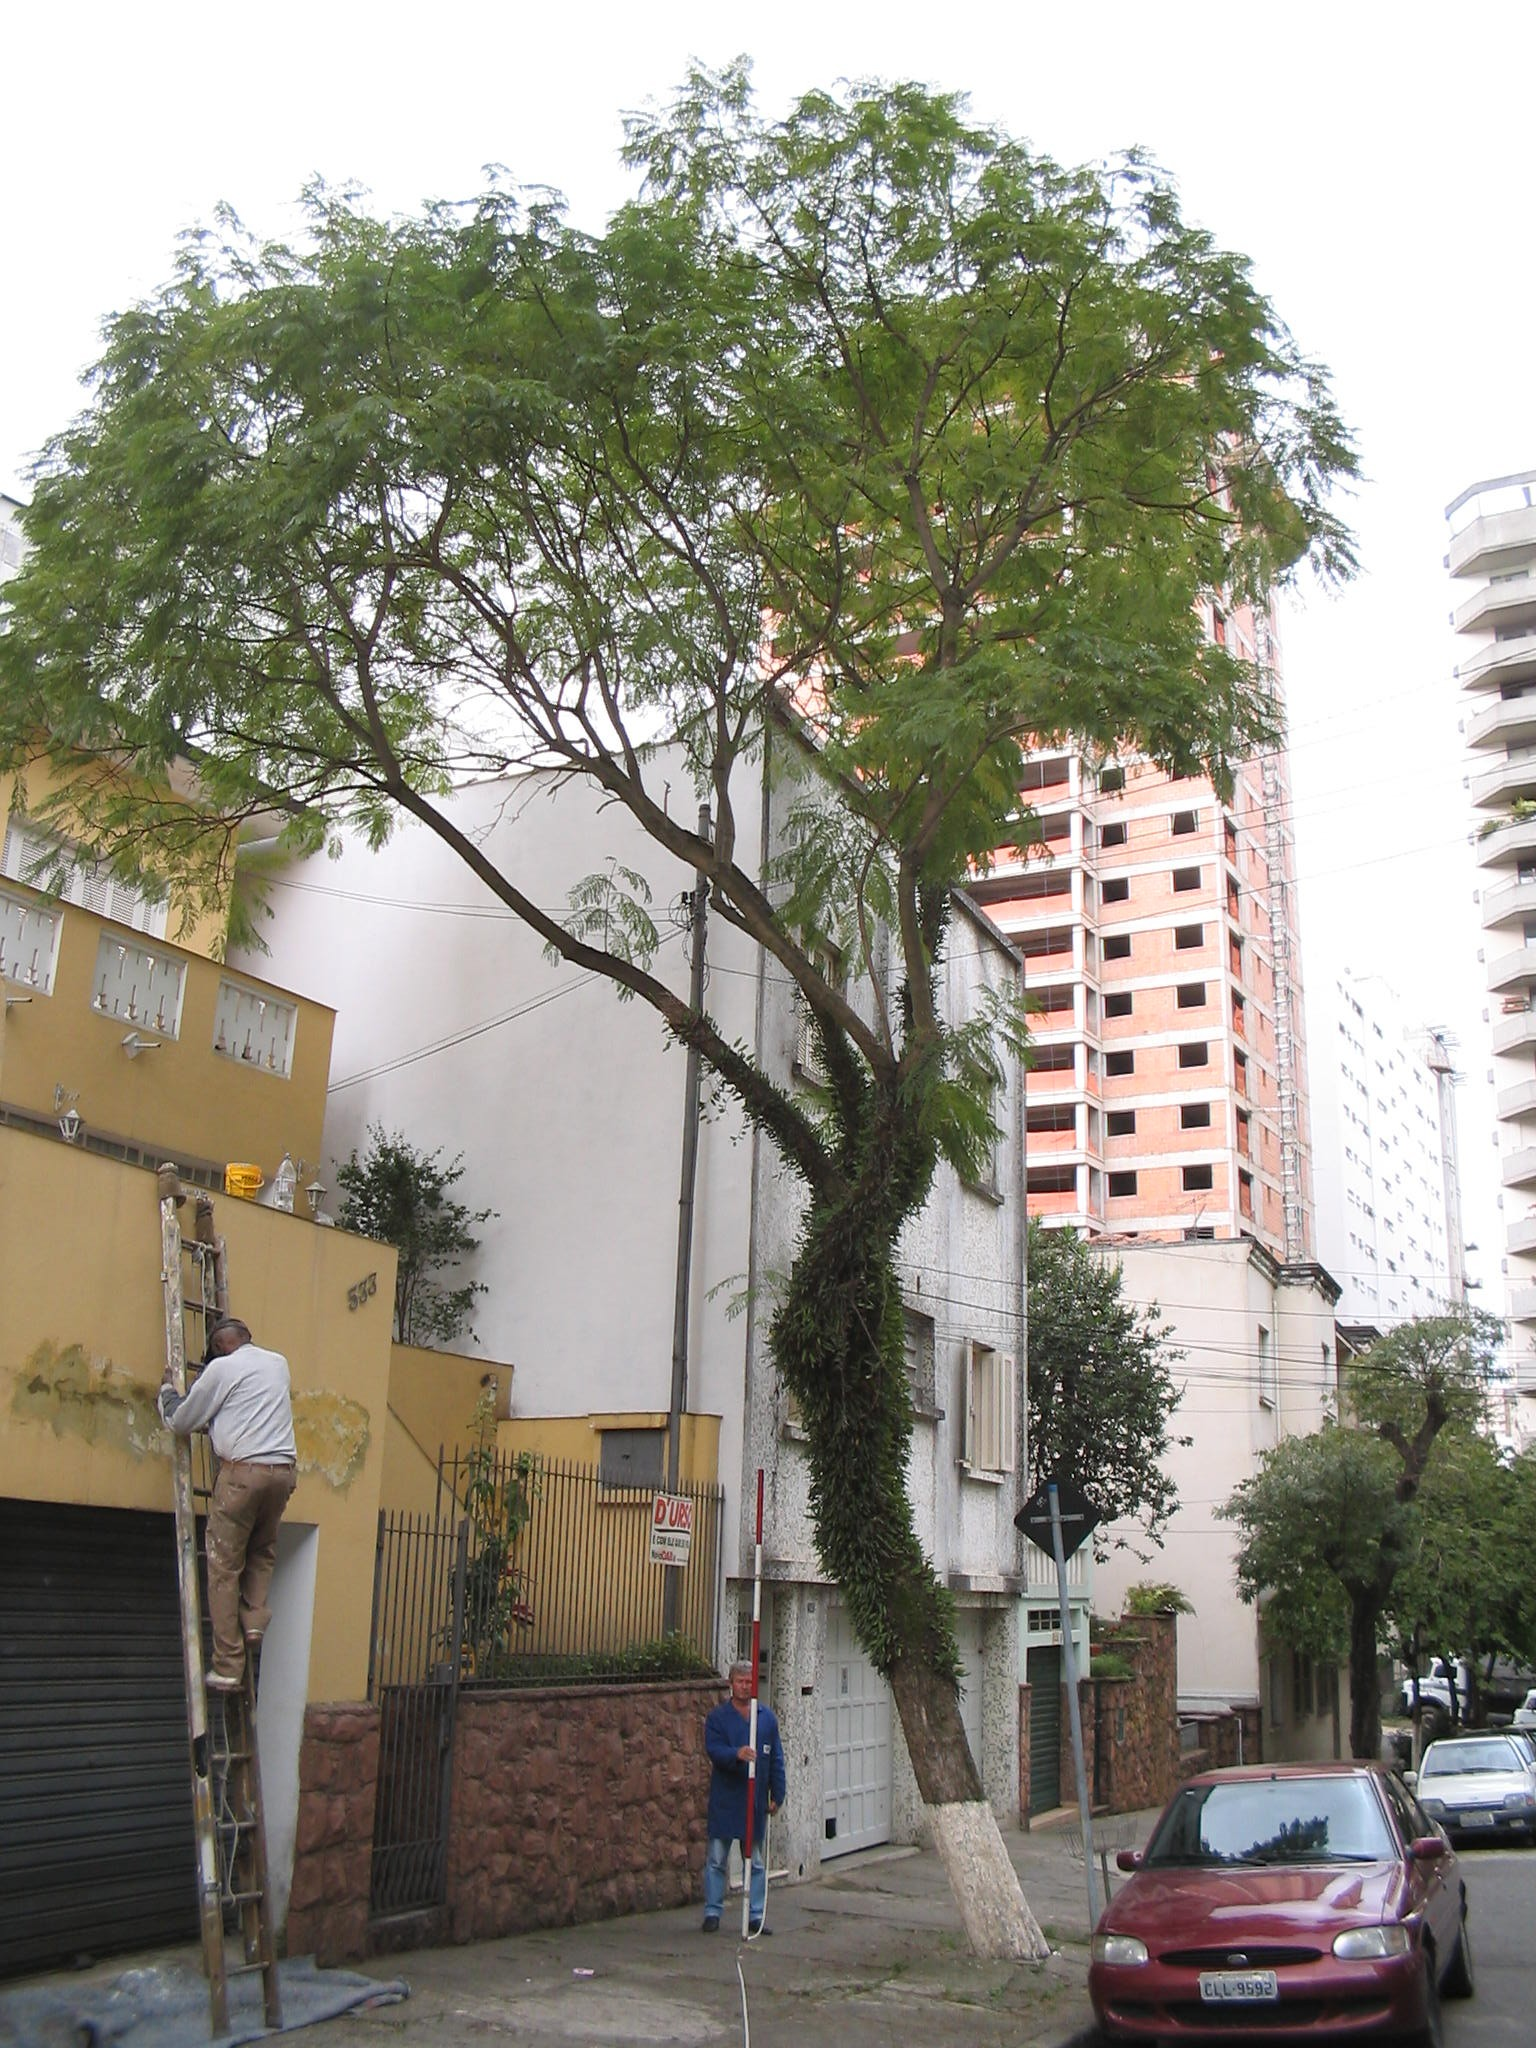crown: (6, 47, 1367, 1208)
stem: (774, 1208, 1065, 1958)
stick: (723, 1471, 774, 1943)
tree: (3, 45, 1375, 1958)
